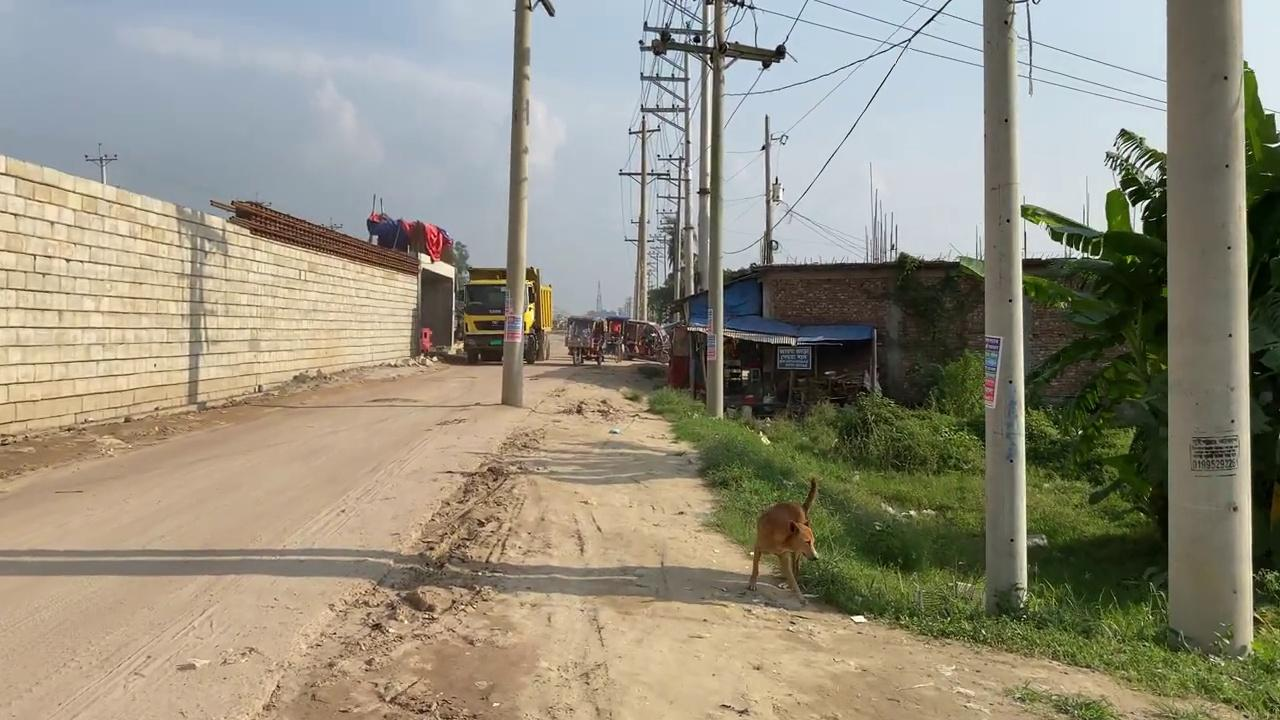Animal: (746, 477, 819, 604)
Pole: (1163, 0, 1254, 659), (981, 0, 1027, 617), (500, 1, 532, 406), (705, 1, 726, 419)
Rickshaw: (460, 366, 816, 720)
Traffic-sign: (1019, 57, 1279, 580)
Tree: (455, 265, 553, 364)
Upstairs: (0, 152, 426, 437)
